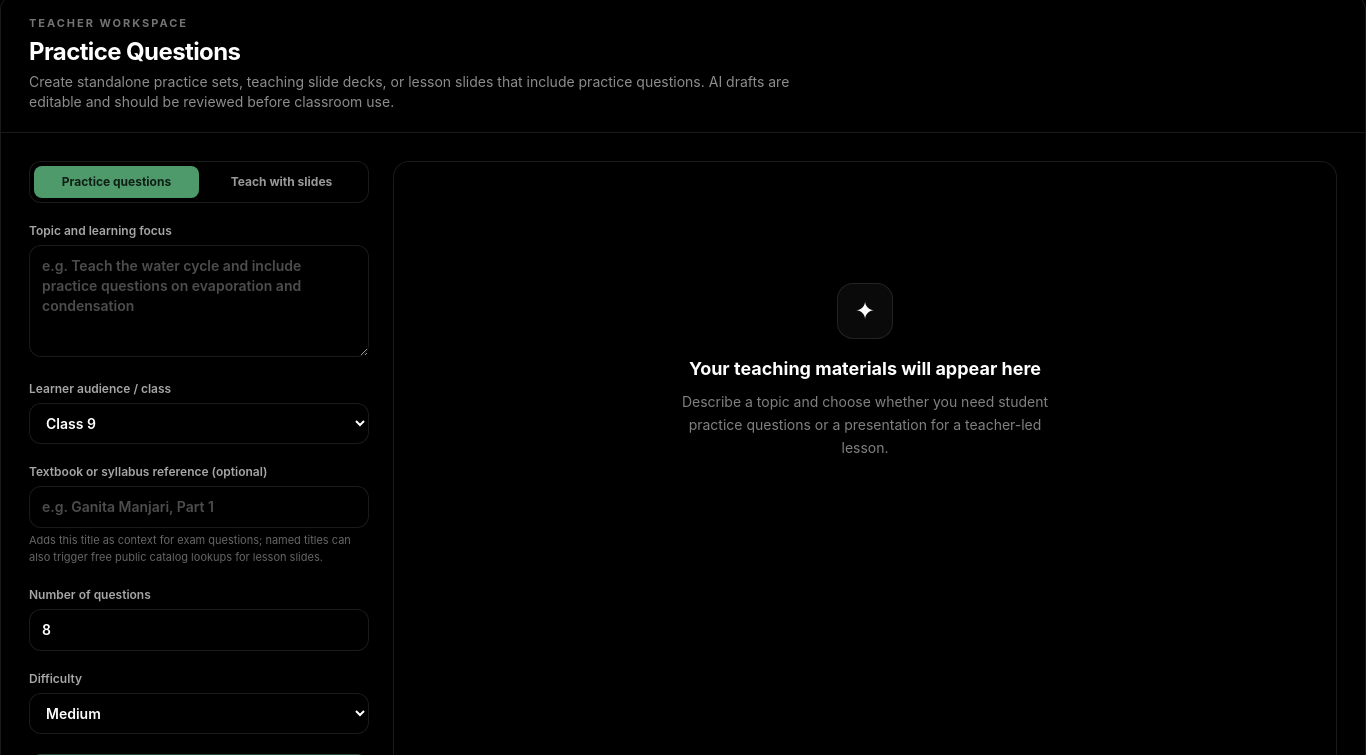
Test: Practice Questions view › streams each generated practice question and updates the ready count as it arrives
This screenshot has width=1366, height=755.
Later steps or results of the test are not shown.
Replace the text in the text box labelled "Topic and learning focus" with "Explain photosynthesis in plants" at [199, 300], box [29,244,369,356]
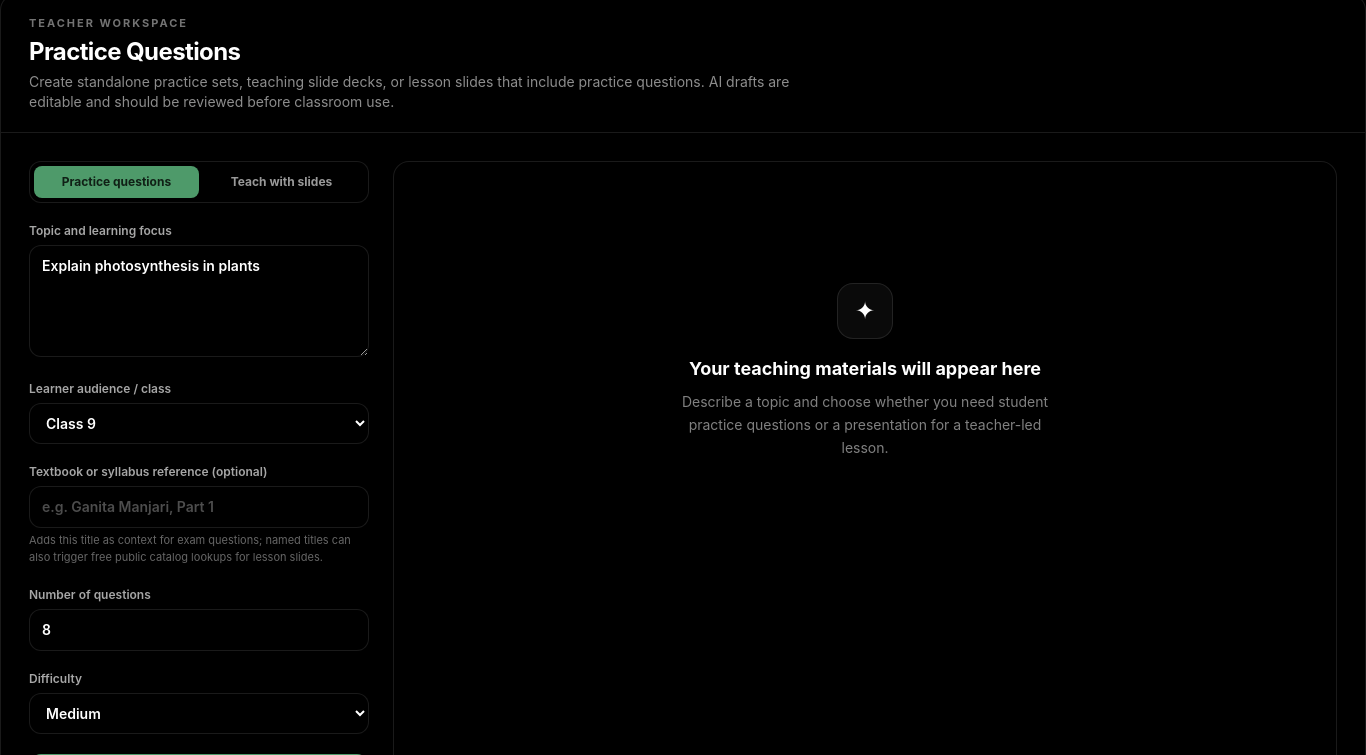
Replace the text in the number field labelled "Number of questions" with "2" at [199, 630], box [29,609,369,651]
(page scrolled)
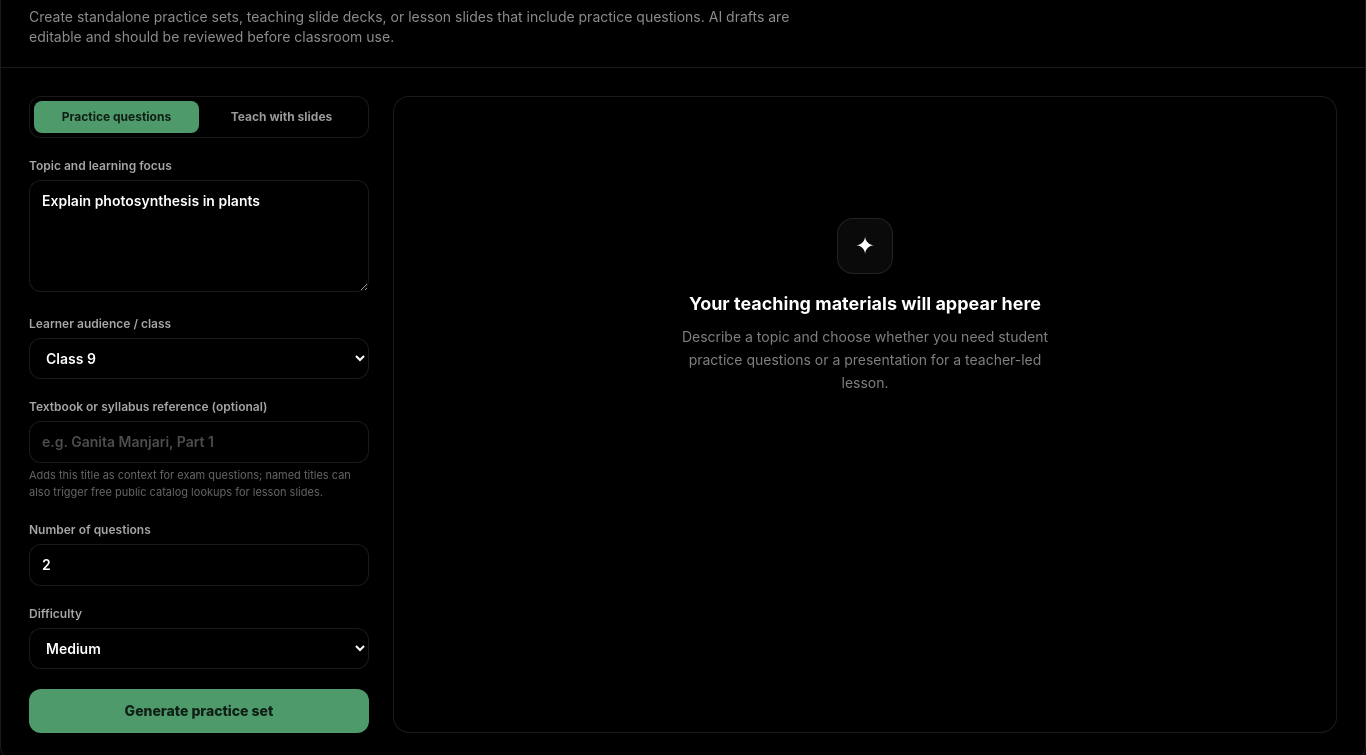
Click the button "Generate practice set" at [199, 711], box [29,689,369,733]
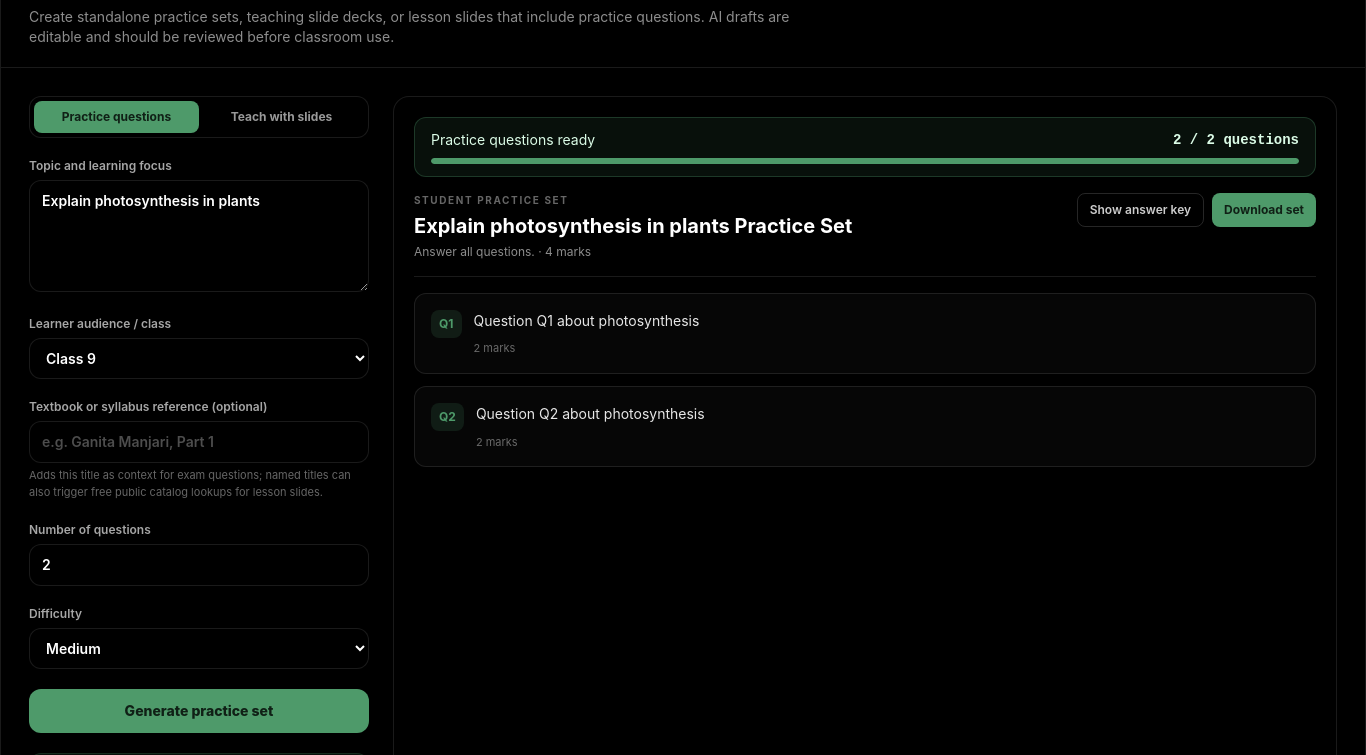
Expected: the text "2 / 2 questions" is shown, [1173,130,1299,150]
